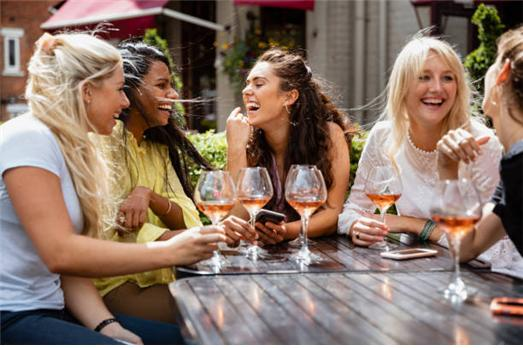alcohol: (424, 183, 483, 307), (284, 169, 334, 269), (363, 166, 401, 254), (236, 169, 270, 262), (197, 173, 234, 226)
